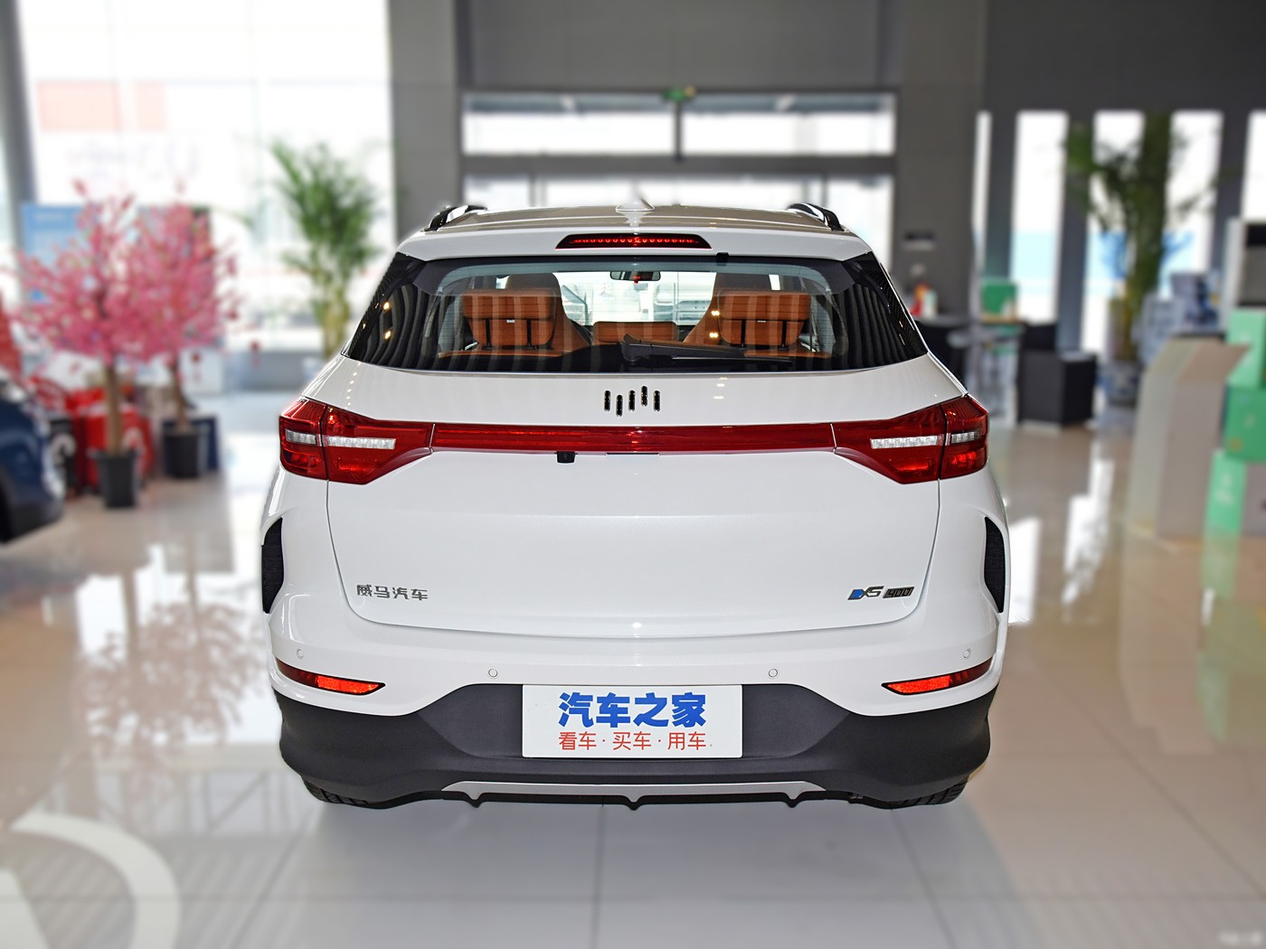WELTMEISTER: (604, 386, 660, 417)
